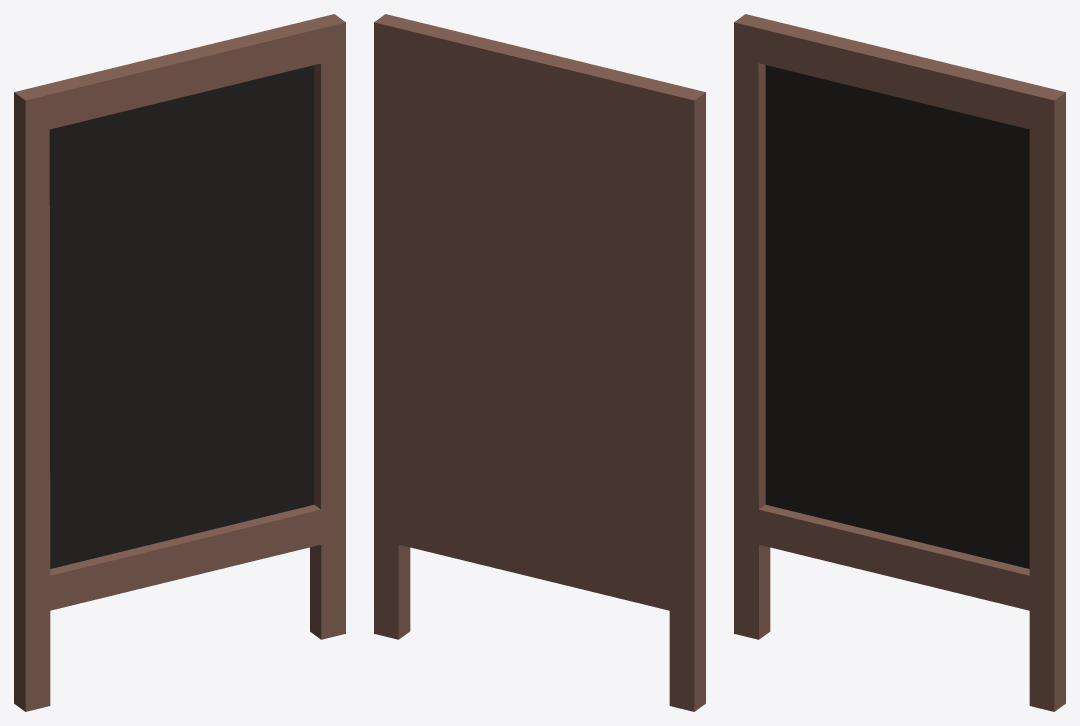
Rendered from SandwichBoard_Half.fbx.
3 renders of one model, left to right at view 1: azimuth 30°, elevation 25°; view 2: azimuth 150°, elevation 25°; view 3: azimuth 330°, elevation 25°, orthographic.
Visible parts, largest first — view 1: SandwichBoard_Half; view 2: SandwichBoard_Half; view 3: SandwichBoard_Half.
Boxes of the visible parts, x1,y1,x2,y2 form: SandwichBoard_Half: (14, 14, 345, 711); SandwichBoard_Half: (374, 14, 705, 711); SandwichBoard_Half: (734, 14, 1065, 711).
Size of the model in its own units: 353 by 644 by 21.85.
